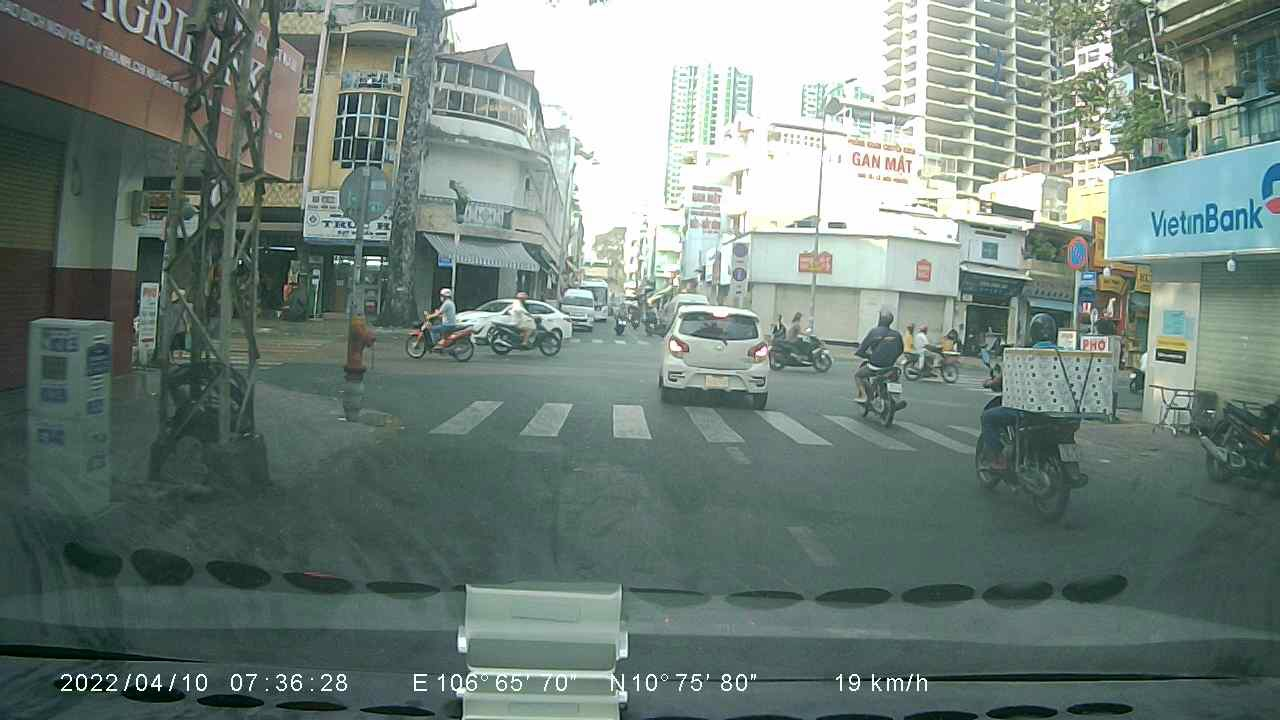Cam do xe: (1064, 231, 1091, 272)
